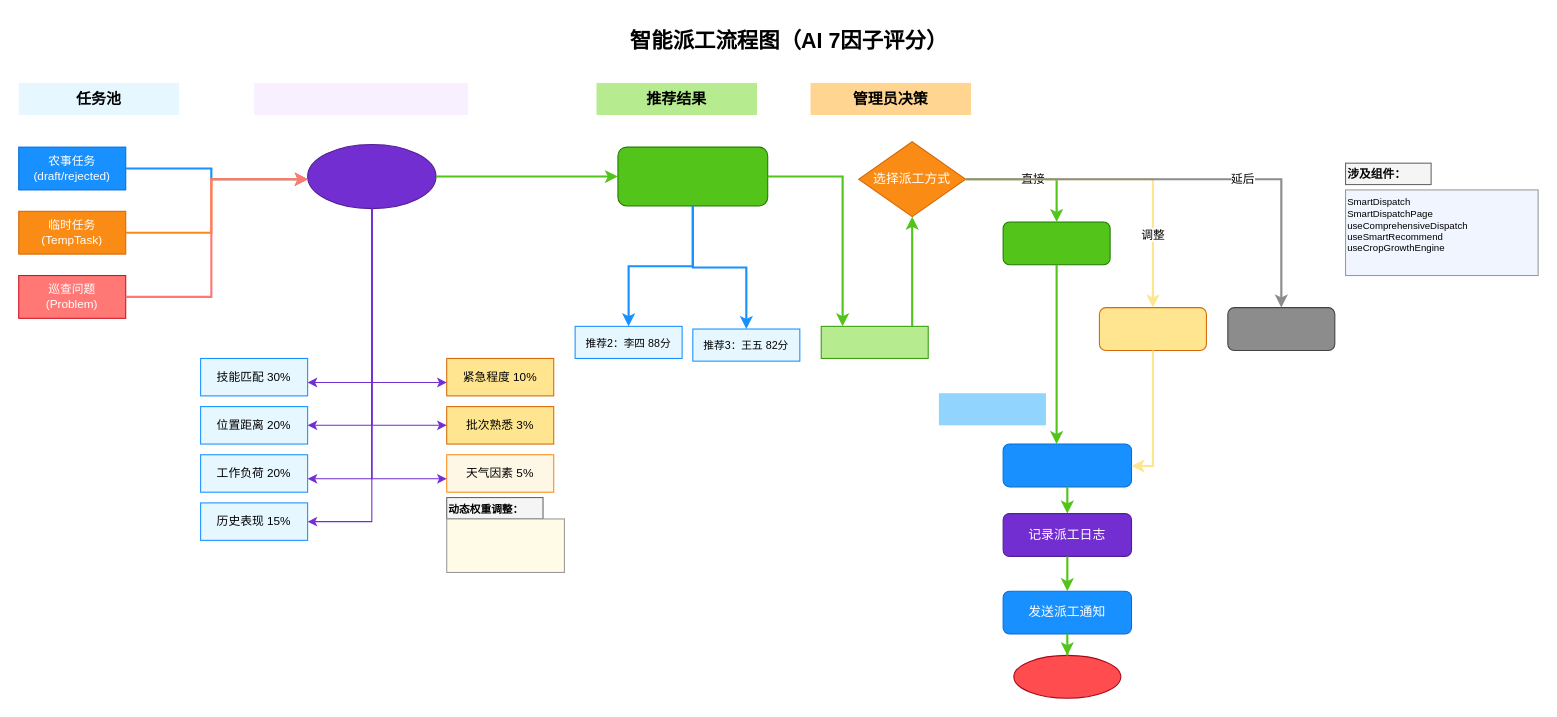
Some shapes in this 1557 by 717 pixel diagram are drawn without their labels. The box of each missing label's shape, as (x1, y1, x2, y2) in pixels:
AI多因子评分引擎: (254, 82, 468, 114)
WorkerRecommendation 推荐执行人列表: (617, 146, 768, 206)
延后派发: (1227, 307, 1335, 350)
执行派工: (938, 393, 1045, 425)
推荐1：张三 95分: (820, 325, 928, 358)
更新任务状态: (1002, 443, 1132, 487)
派工完成: (1013, 654, 1121, 698)
直接采纳推荐: (1002, 221, 1110, 265)
紧急任务↑紧急权重 大面积↑位置权重 病虫害↑技能权重: (446, 518, 564, 572)
调整执行人: (1098, 307, 1206, 350)
🤖 AI综合评分: (307, 143, 436, 209)
